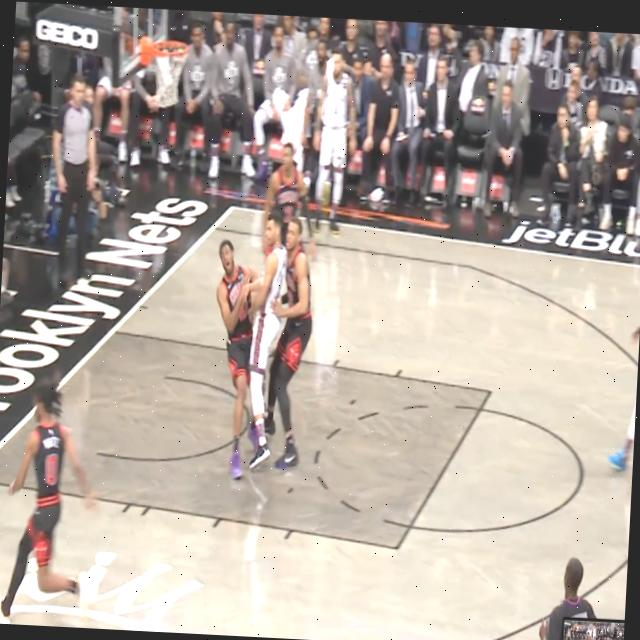foul: (185, 200, 342, 484)
